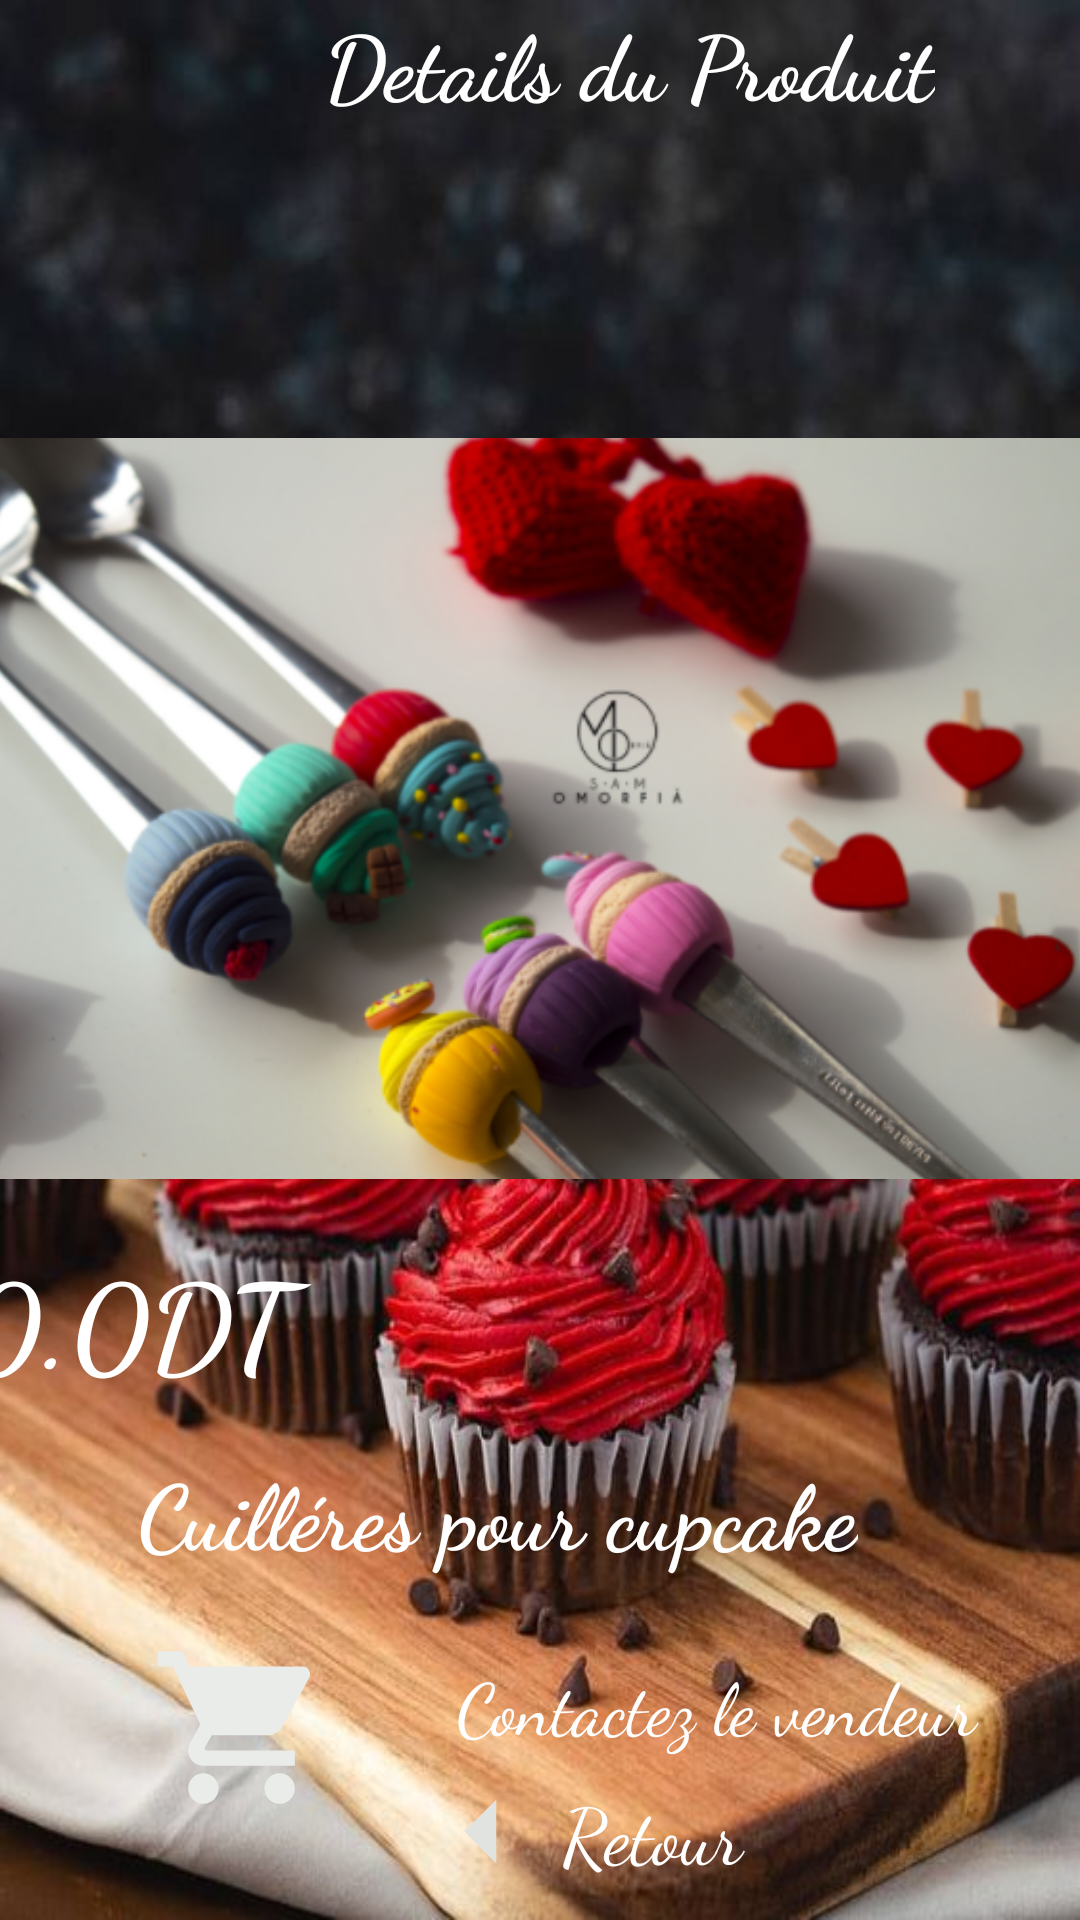

Where to tap for icons on this 1080×1920 app screen, as (x,y):
shoppnow: (241,1727)
